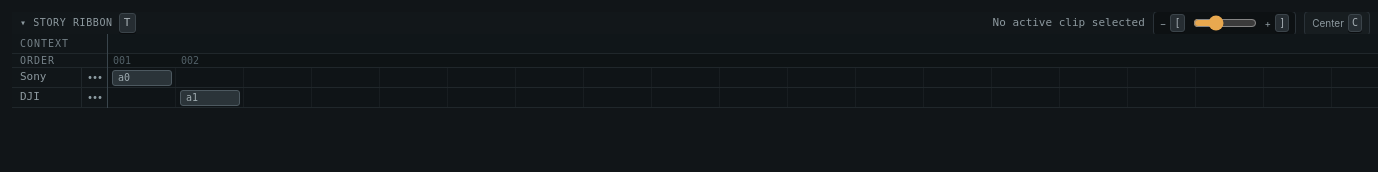
Test: renaming a camera › abandons the edit on Escape
Click the button "Sony" at (46, 78), box [12,68,81,87]
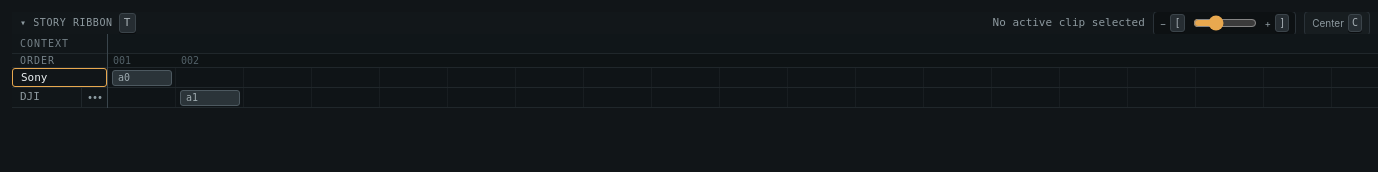
Replace the text in the field named "Rename camera Sony" with "typo" at (60, 78), box [12,68,107,87]
Then press Escape
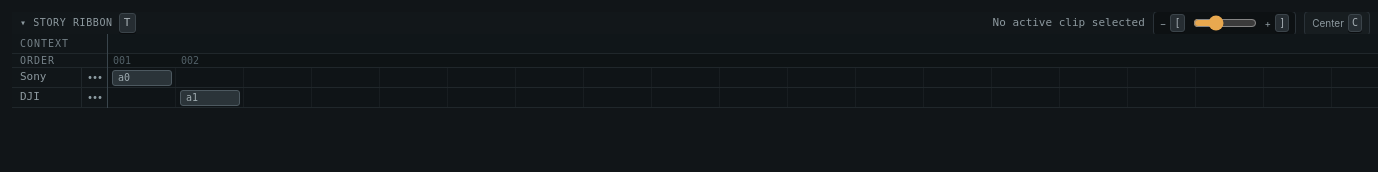
Now the button "Sony" is shown, box [12,68,81,87]
